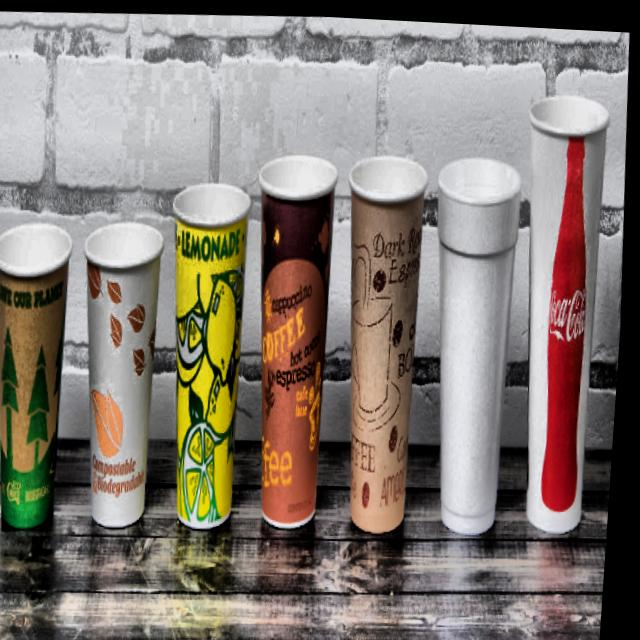Cup: (503, 66, 631, 571), (417, 133, 540, 554), (325, 129, 446, 554), (239, 125, 357, 539), (156, 174, 266, 541), (71, 206, 182, 527), (0, 212, 90, 552)
